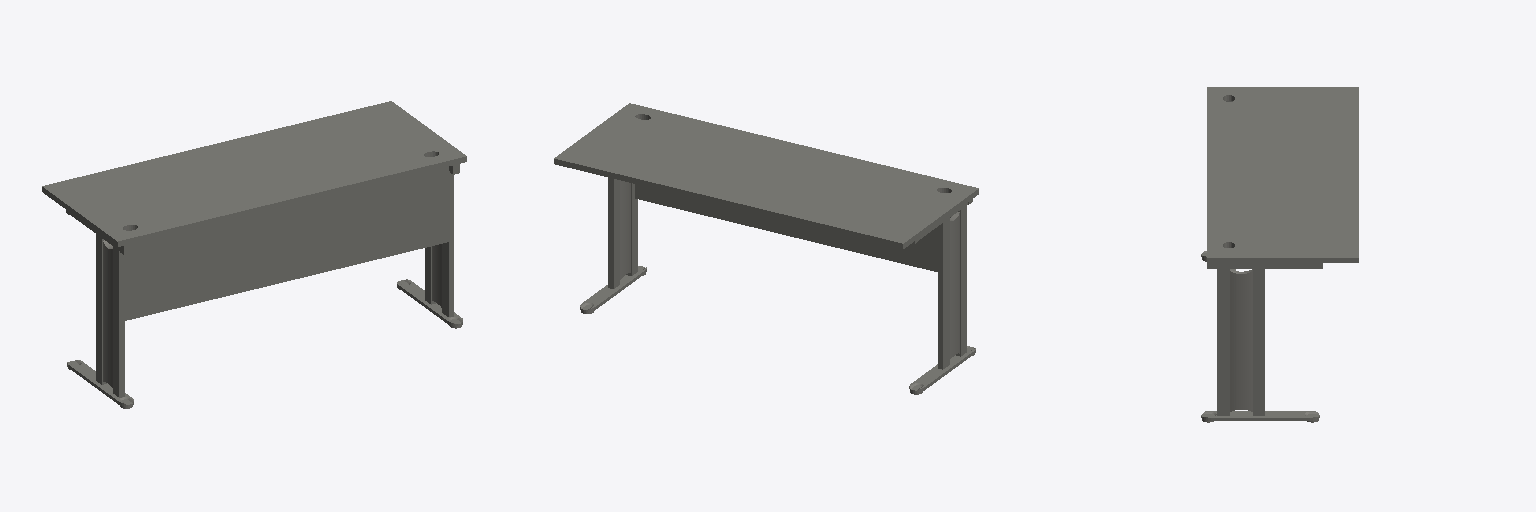
3 views of the same model, side by side, from view 1: azimuth 30°, elevation 25°; view 2: azimuth 150°, elevation 25°; view 3: azimuth 270°, elevation 25° (orthographic).
Visible parts, largest first — view 1: escritorio; view 2: escritorio; view 3: escritorio.
Boxes of the visible parts, box(x1,y1,x2,y2) form: escritorio: box(42, 101, 466, 408); escritorio: box(554, 103, 978, 394); escritorio: box(1201, 87, 1358, 422).
Bounding box in the file's own units: 28.8 × 13.17 × 11.22.
Materials: 1 (1 with a texture image).